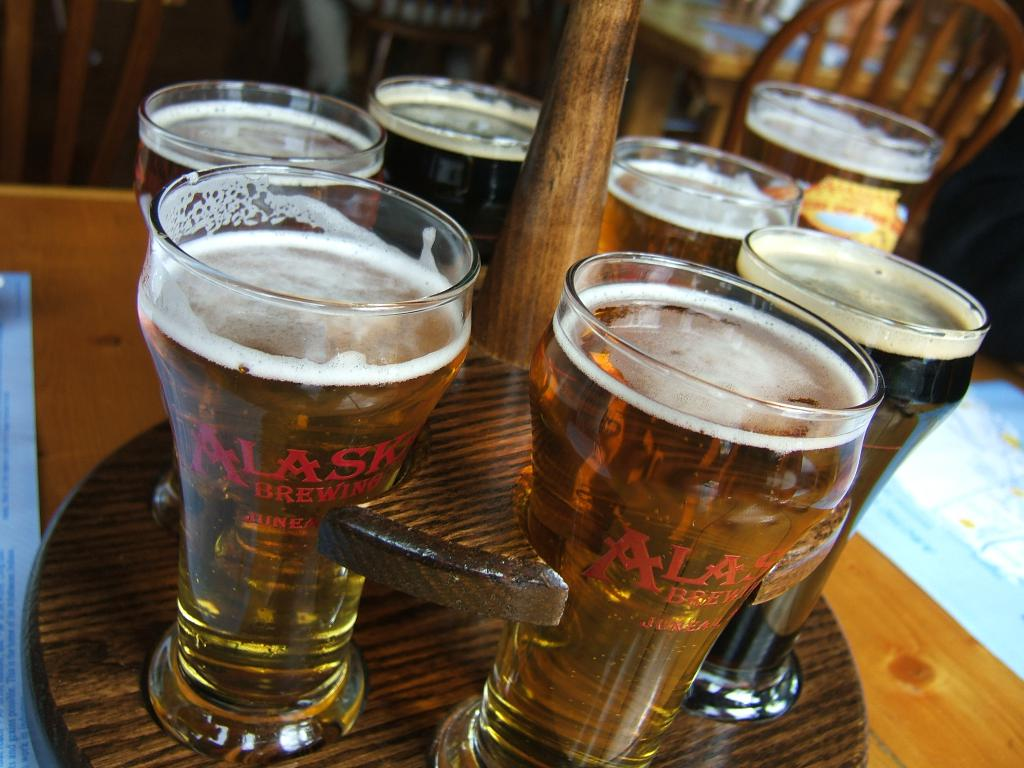Beer: (478, 282, 855, 747), (136, 225, 459, 707), (741, 254, 976, 693), (135, 94, 373, 234), (378, 83, 504, 267), (600, 153, 766, 266), (770, 139, 905, 241)
